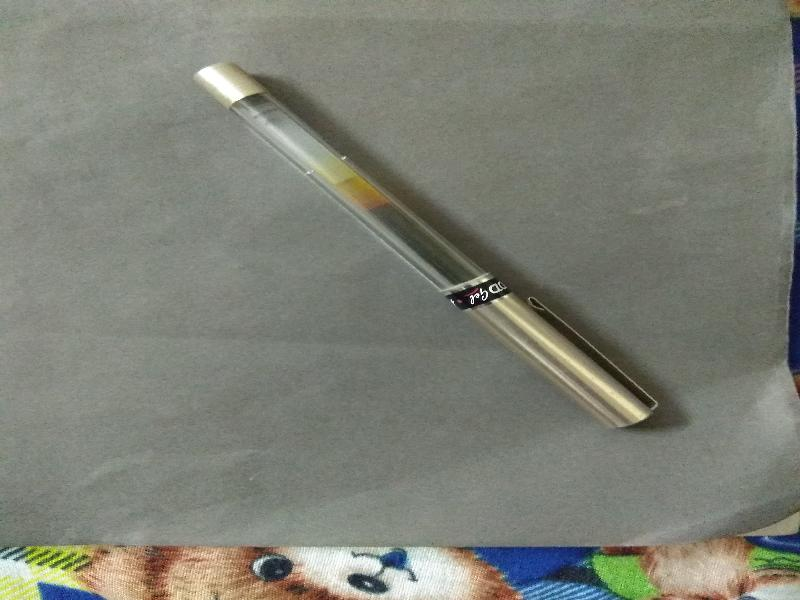pen: (189, 57, 662, 444)
